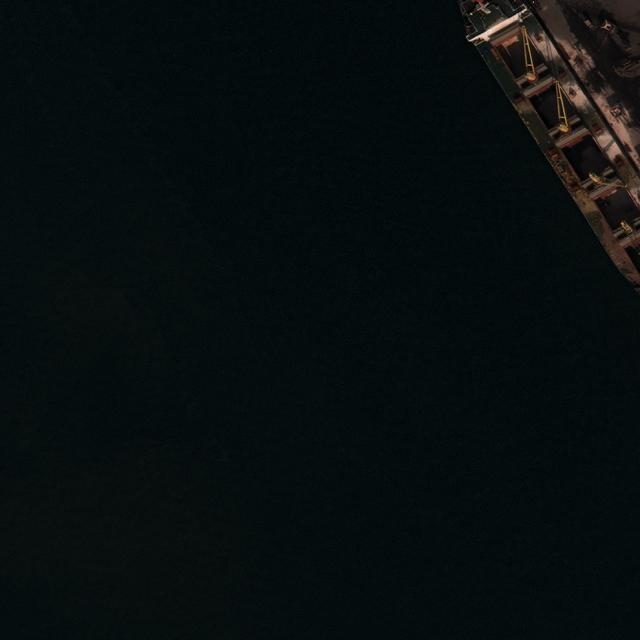Cargo: (455, 1, 640, 284)
